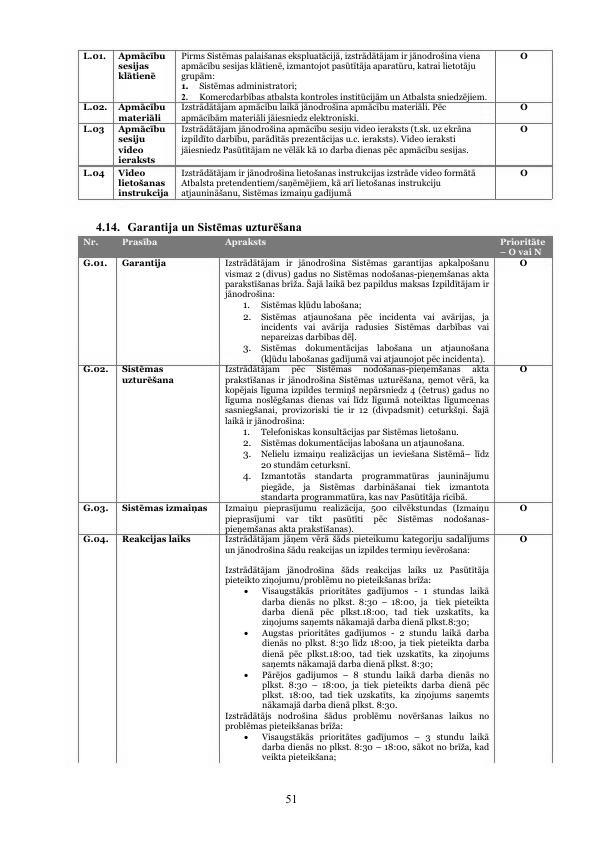table: (76, 234, 557, 774), (75, 44, 560, 205)
text: (91, 220, 304, 234)
